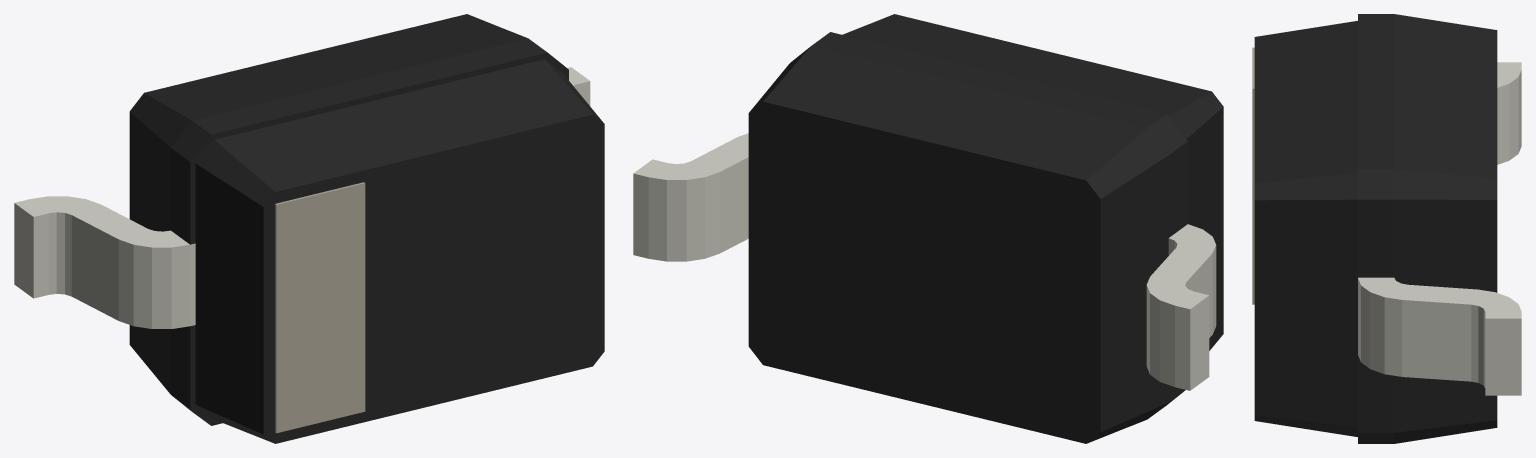
File: D_SOD-323.glb
3 renders of one model, left to right at view 1: azimuth 30°, elevation 25°; view 2: azimuth 150°, elevation 25°; view 3: azimuth 270°, elevation 25°, orthographic. The views are drawn at different scales.
Visible parts, largest first — view 1: D_SOD-323_be7d4f, D_SOD-323_d17240, D_SOD-323_36b0e5; view 2: D_SOD-323_be7d4f, D_SOD-323_36b0e5; view 3: D_SOD-323_be7d4f, D_SOD-323_36b0e5, D_SOD-323_d17240.
Part boxes in pixels (x1,y1,x2,y2): D_SOD-323_be7d4f: (129,14,604,443); D_SOD-323_d17240: (275,182,365,433); D_SOD-323_36b0e5: (14,67,590,328); D_SOD-323_be7d4f: (748,14,1223,443); D_SOD-323_36b0e5: (633,133,1216,390); D_SOD-323_be7d4f: (1254,14,1497,443); D_SOD-323_36b0e5: (1358,62,1521,395); D_SOD-323_d17240: (1252,47,1254,304).
Size of the model in its own units: 0.0025 by 0.00125 by 0.00111.
